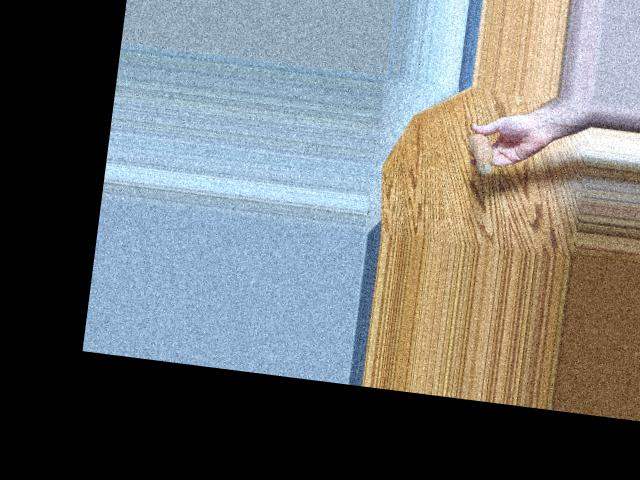sweet_potato: (469, 129, 500, 175)
